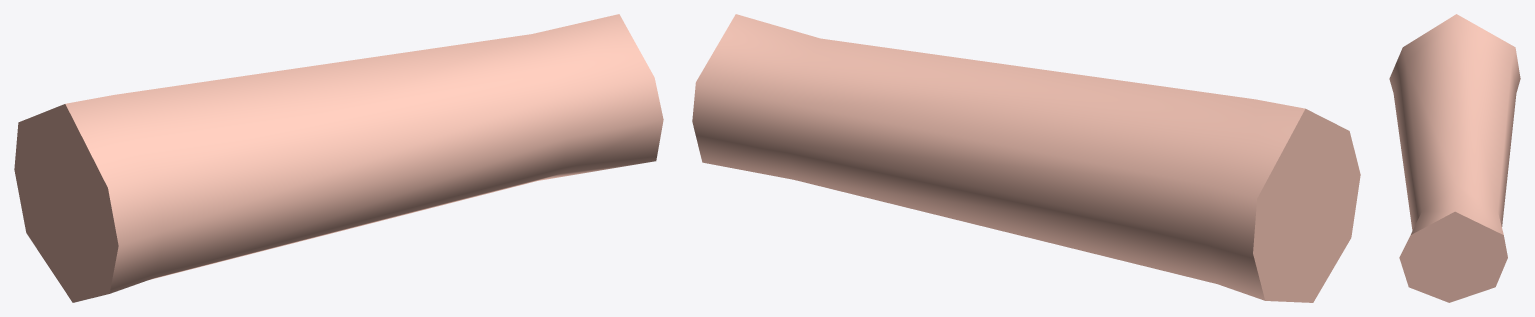
Rendered from ForeArm_L.FBX.
The picture shows the model from 3 angles, left to right: view 1: azimuth 30°, elevation 25°; view 2: azimuth 150°, elevation 25°; view 3: azimuth 270°, elevation 25°; orthographic projection. The views are drawn at different scales.
Parts seen in each view (by area): view 1: ForeArm_L; view 2: ForeArm_L; view 3: ForeArm_L.
Part boxes in pixels (left/top/right/bottom): ForeArm_L: left=14, top=14, right=663, bottom=302; ForeArm_L: left=692, top=14, right=1360, bottom=302; ForeArm_L: left=1389, top=14, right=1520, bottom=302.
Bounding box in the file's own units: 10.45 × 3.41 × 3.5.
